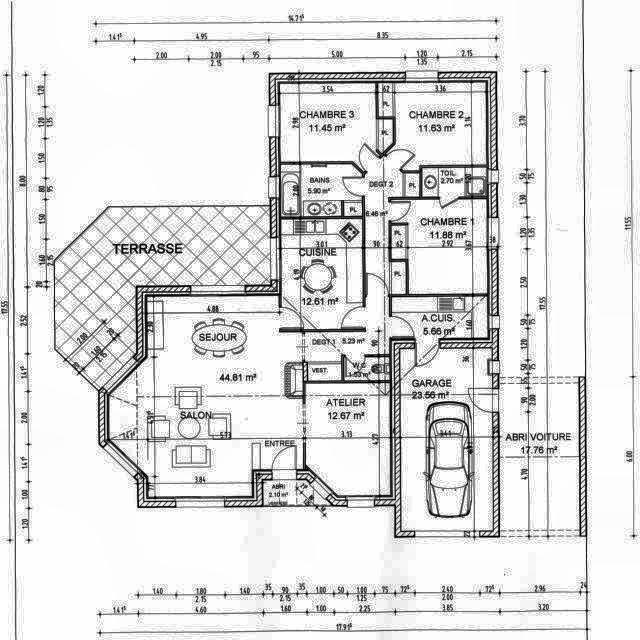room: (109, 295, 390, 497), (402, 349, 492, 531), (280, 82, 393, 174), (378, 82, 486, 171), (391, 199, 487, 294), (282, 219, 362, 329), (365, 156, 421, 294), (280, 164, 363, 217), (392, 297, 488, 338), (422, 168, 486, 196), (344, 357, 389, 380)
